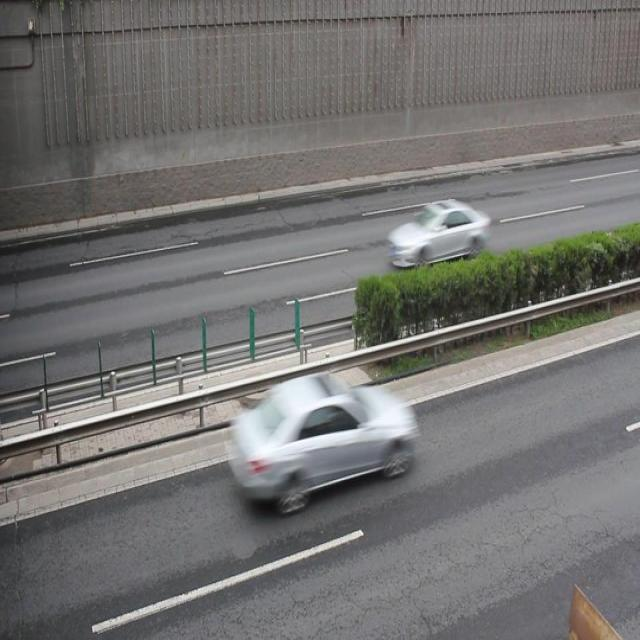car: (226, 376, 416, 511), (388, 198, 486, 268)
